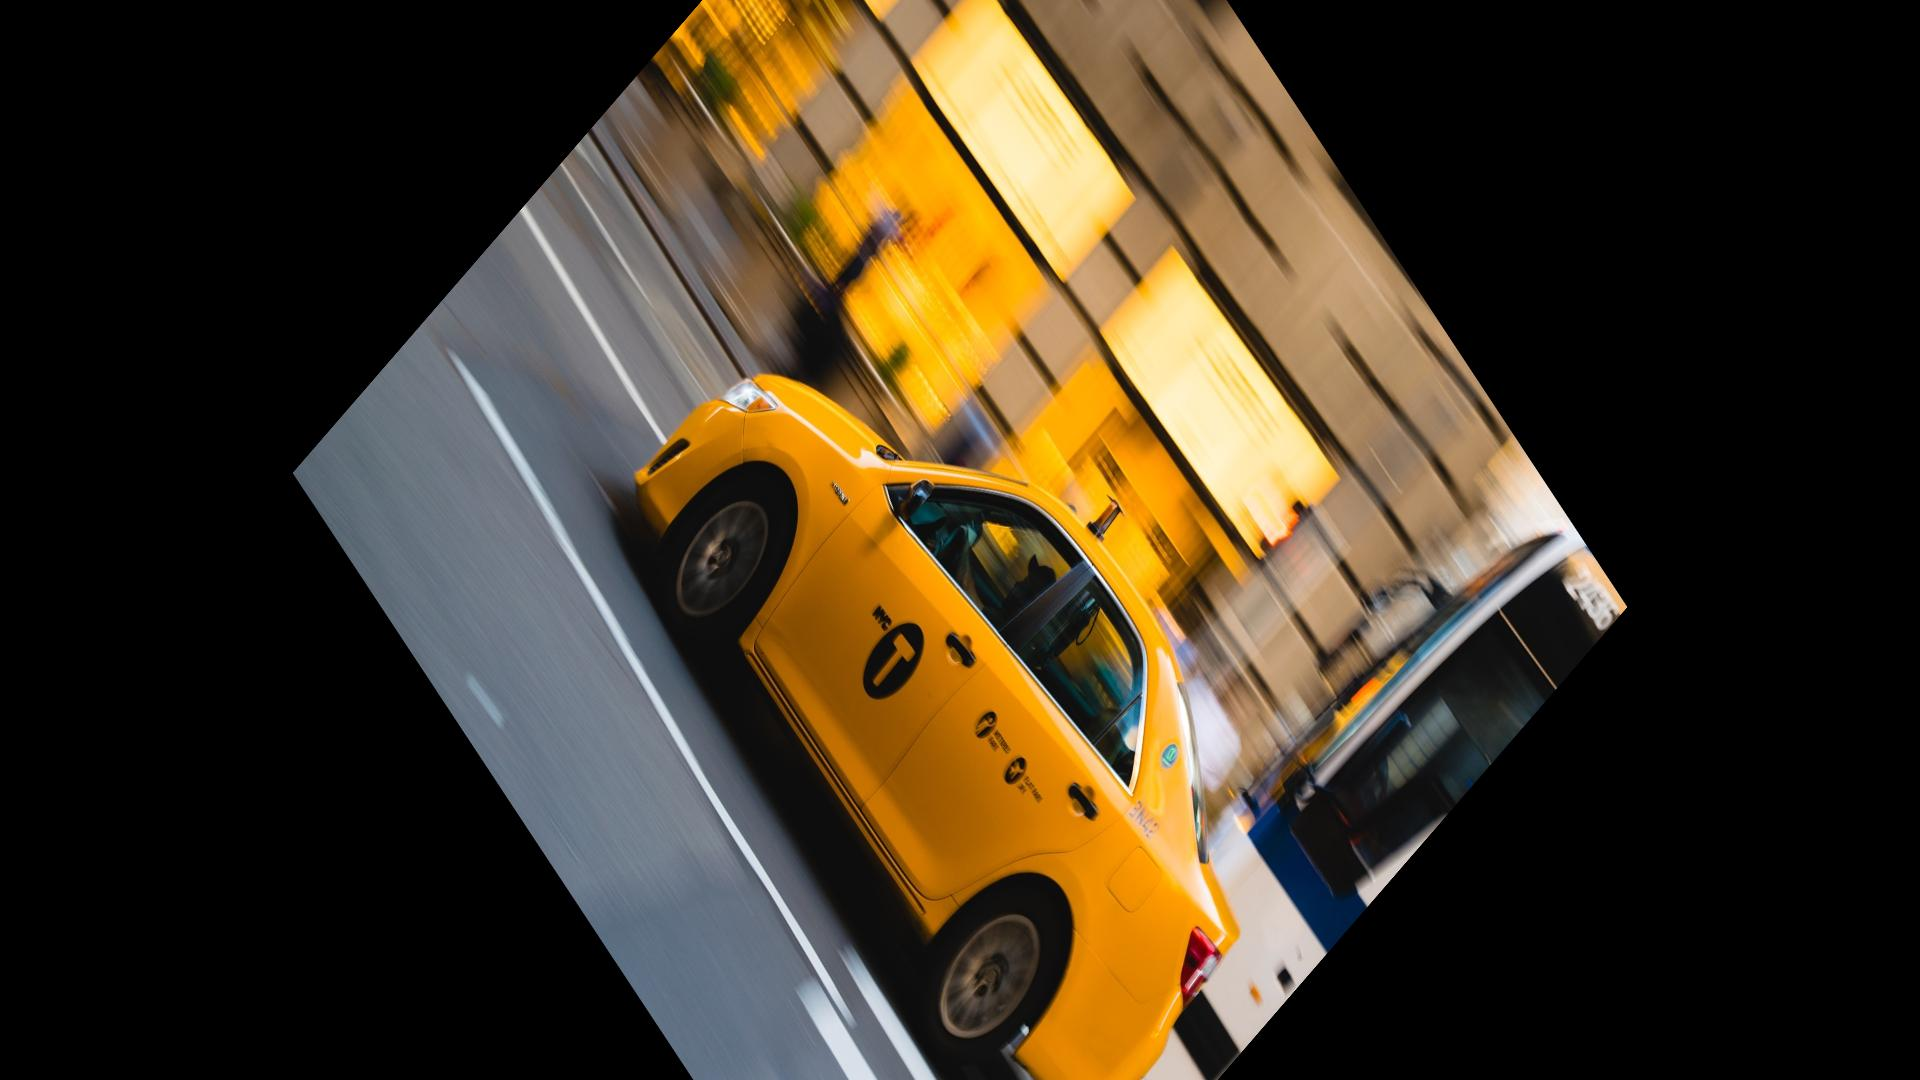taxi: (626, 342, 1232, 1080)
